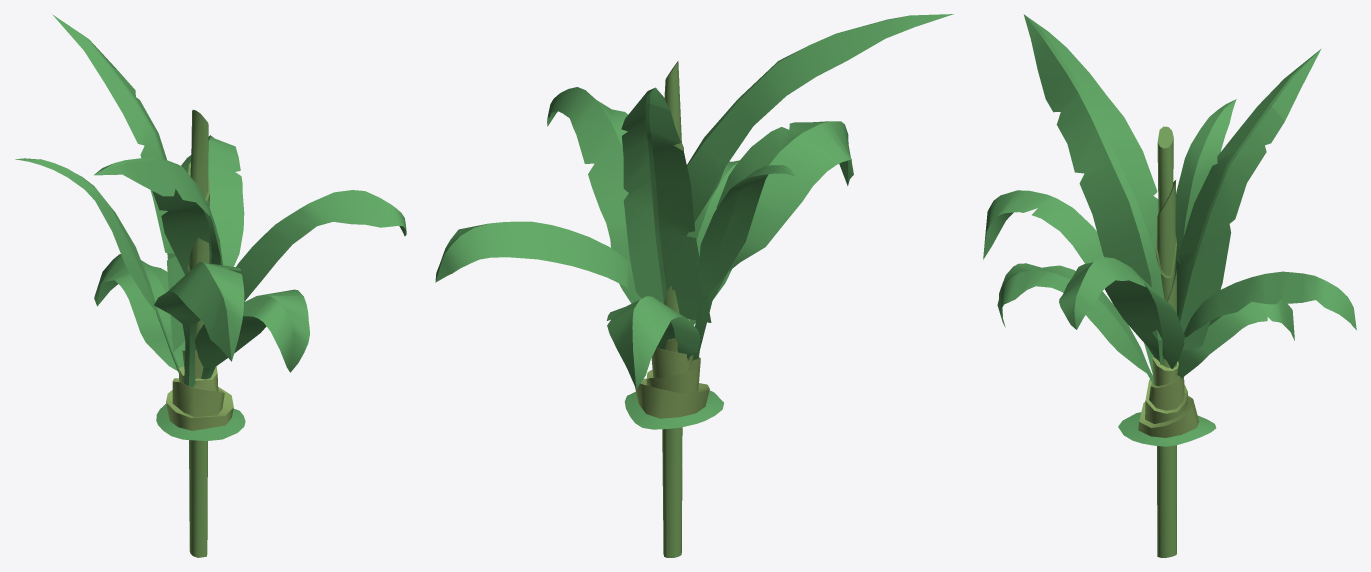
The model's file is plant_palm_fantasy_B.fbx.
The picture shows the model from 3 angles, left to right: view 1: azimuth 30°, elevation 25°; view 2: azimuth 150°, elevation 25°; view 3: azimuth 270°, elevation 25°; orthographic projection. The views are drawn at different scales.
Parts seen in each view (by area): view 1: plant_fantasy_B_leaf_02, plant_fantasy_B_leaf_03, plant_fantasy_B_leaf_07, plant_fantasy_B_leaf_06, plant_fantasy_B_trunk, plant_fantasy_B_twig, plant_fantasy_B_leaf_04, plant_fantasy_B_leaf_08, plant_fantasy_B_leaf_05, plant_fantasy_B_leaf_01; view 2: plant_fantasy_B_leaf_04, plant_fantasy_B_leaf_03, plant_fantasy_B_leaf_02, plant_fantasy_B_leaf_08, plant_fantasy_B_leaf_07, plant_fantasy_B_trunk, plant_fantasy_B_leaf_01, plant_fantasy_B_leaf_05, plant_fantasy_B_twig, plant_fantasy_B_leaf_06; view 3: plant_fantasy_B_leaf_03, plant_fantasy_B_leaf_04, plant_fantasy_B_leaf_07, plant_fantasy_B_twig, plant_fantasy_B_leaf_08, plant_fantasy_B_trunk, plant_fantasy_B_leaf_06, plant_fantasy_B_leaf_02, plant_fantasy_B_leaf_01, plant_fantasy_B_leaf_05.
Part boxes in pixels (x1,y1,x2,y2): plant_fantasy_B_leaf_02: (154, 262, 244, 387); plant_fantasy_B_leaf_03: (94, 157, 222, 274); plant_fantasy_B_leaf_07: (236, 190, 406, 301); plant_fantasy_B_leaf_06: (194, 289, 309, 379); plant_fantasy_B_trunk: (156, 350, 245, 440); plant_fantasy_B_twig: (188, 110, 209, 557); plant_fantasy_B_leaf_04: (52, 14, 185, 351); plant_fantasy_B_leaf_08: (167, 135, 244, 266); plant_fantasy_B_leaf_05: (94, 254, 185, 370); plant_fantasy_B_leaf_01: (15, 158, 180, 375); plant_fantasy_B_leaf_04: (621, 87, 711, 322); plant_fantasy_B_leaf_03: (678, 14, 953, 235); plant_fantasy_B_leaf_02: (693, 121, 853, 360); plant_fantasy_B_leaf_08: (435, 221, 641, 300); plant_fantasy_B_leaf_07: (547, 87, 637, 303); plant_fantasy_B_trunk: (624, 318, 723, 429); plant_fantasy_B_leaf_01: (687, 165, 794, 360); plant_fantasy_B_leaf_05: (607, 296, 699, 388); plant_fantasy_B_twig: (662, 61, 683, 557); plant_fantasy_B_leaf_06: (686, 160, 739, 325); plant_fantasy_B_leaf_03: (1023, 14, 1164, 364); plant_fantasy_B_leaf_04: (1175, 49, 1320, 350); plant_fantasy_B_leaf_07: (1059, 257, 1184, 368); plant_fantasy_B_twig: (1155, 126, 1176, 557); plant_fantasy_B_leaf_08: (1184, 271, 1356, 337); plant_fantasy_B_trunk: (1118, 356, 1216, 446); plant_fantasy_B_leaf_06: (997, 263, 1153, 384); plant_fantasy_B_leaf_02: (983, 190, 1153, 376); plant_fantasy_B_leaf_01: (1175, 99, 1236, 264); plant_fantasy_B_leaf_05: (1177, 299, 1294, 378).
Size of the model in its own units: 199 by 279 by 198.
